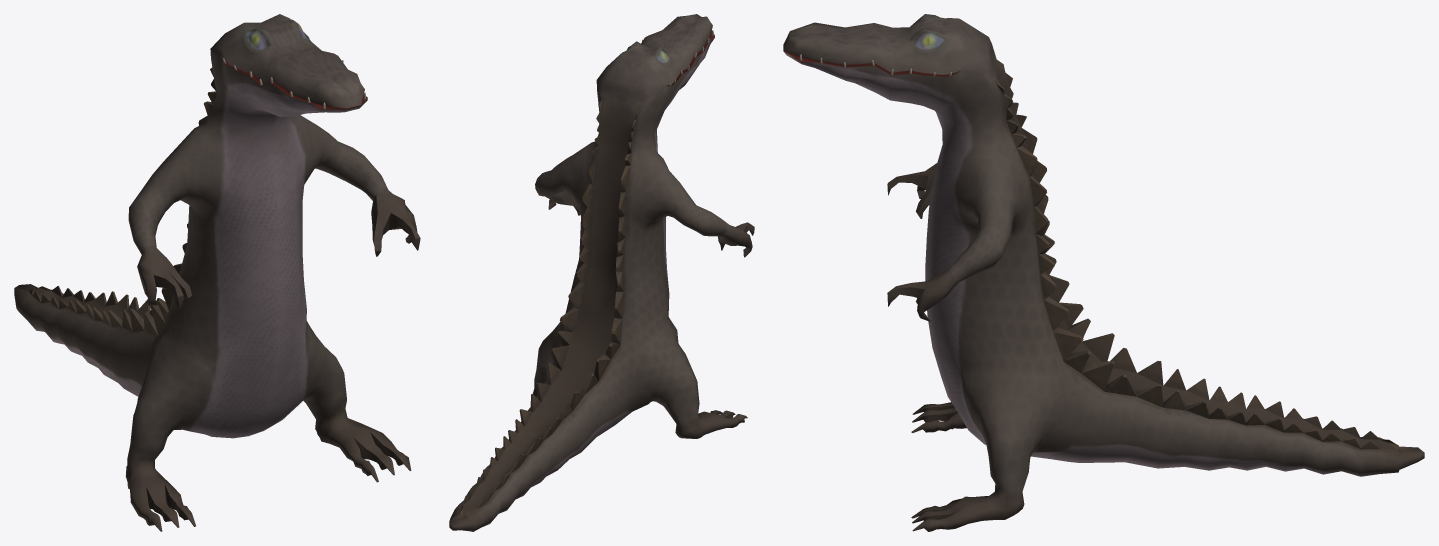
File: gator.glb
3 views of the same model, side by side, from view 1: azimuth 30°, elevation 25°; view 2: azimuth 150°, elevation 25°; view 3: azimuth 270°, elevation 25° (orthographic). The views are drawn at different scales.
Parts seen in each view (by area): view 1: gator; view 2: gator; view 3: gator.
Boxes of the visible parts, box(x1,y1,x2,y2) form: gator: box(14, 14, 420, 531); gator: box(449, 14, 754, 531); gator: box(783, 14, 1424, 531).
Bounding box in the file's own units: 45.51 × 76.66 × 98.15.
Materials: 1 (1 with a texture image).
